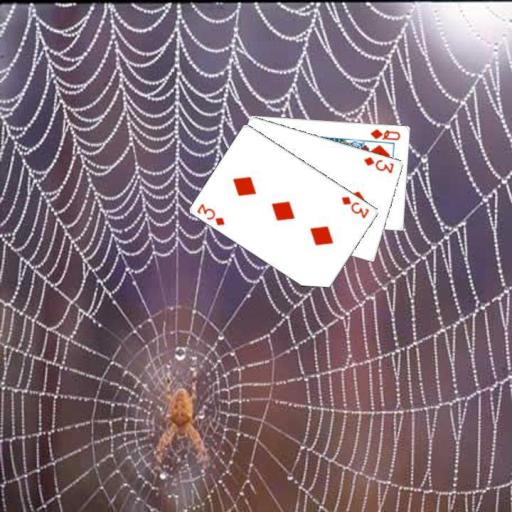3D: (339, 193, 371, 220), (194, 200, 226, 227), (361, 154, 396, 175)
QD: (368, 125, 402, 142)
